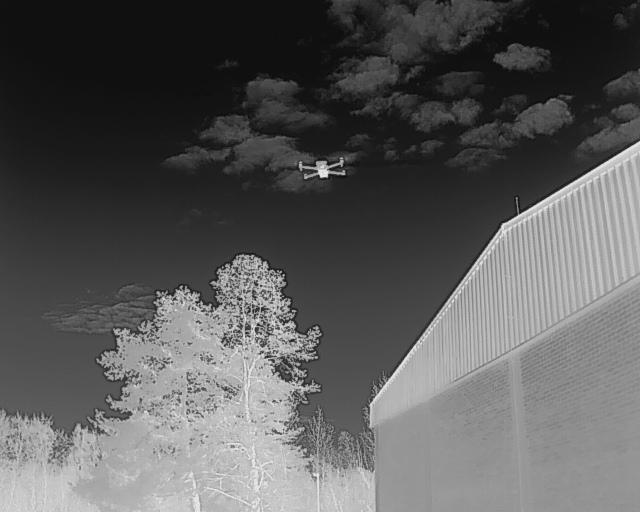drone: (289, 149, 355, 187)
